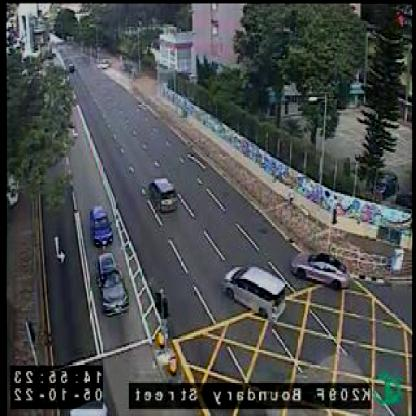Car: (224, 264, 290, 323), (292, 252, 352, 289), (100, 251, 129, 321), (152, 177, 180, 210), (92, 203, 113, 246)
